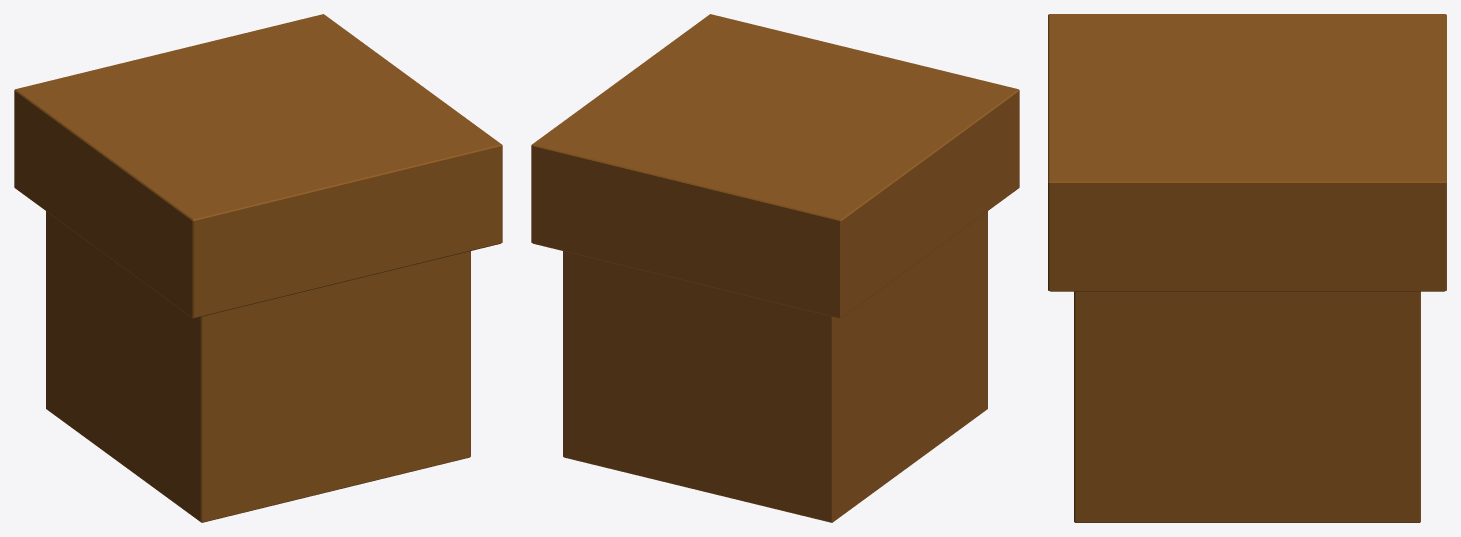
3 renders of one model, left to right at view 1: azimuth 30°, elevation 25°; view 2: azimuth 150°, elevation 25°; view 3: azimuth 270°, elevation 25°, orthographic. The views are drawn at different scales.
Visible parts, largest first — view 1: Simple Box; view 2: Simple Box; view 3: Simple Box.
Part boxes in pixels (bbox=[...]): Simple Box: bbox=[14, 14, 502, 522]; Simple Box: bbox=[531, 14, 1019, 522]; Simple Box: bbox=[1048, 14, 1446, 522].
Bounding box in the file's own units: 387 × 377 × 387.
